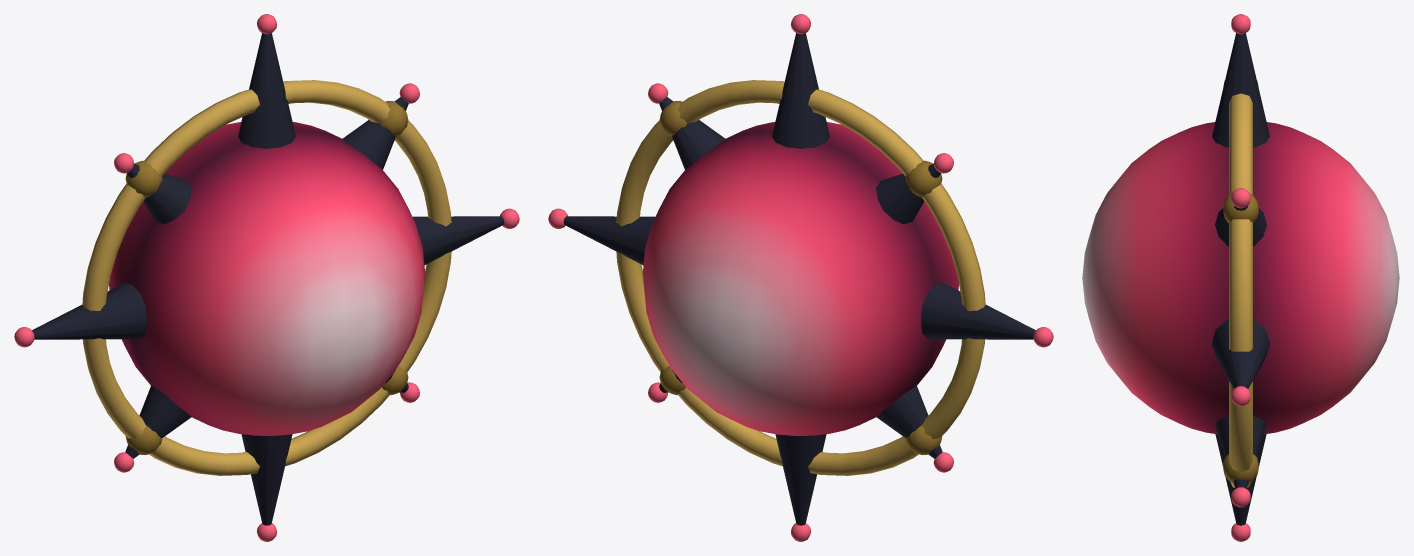
File: boss_bullet.obj
3 renders of one model, left to right at view 1: azimuth 30°, elevation 25°; view 2: azimuth 150°, elevation 25°; view 3: azimuth 270°, elevation 25°, orthographic.
Parts seen in each view (by area): view 1: BossBullet; view 2: BossBullet; view 3: BossBullet.
Part boxes in pixels (x1=…): BossBullet: x1=14, y1=14, x2=519, y2=541; BossBullet: x1=548, y1=14, x2=1053, y2=541; BossBullet: x1=1082, y1=14, x2=1399, y2=541.
Size of the model in its own units: 1.24 by 1.24 by 0.68.
1 material, 1 textured.
